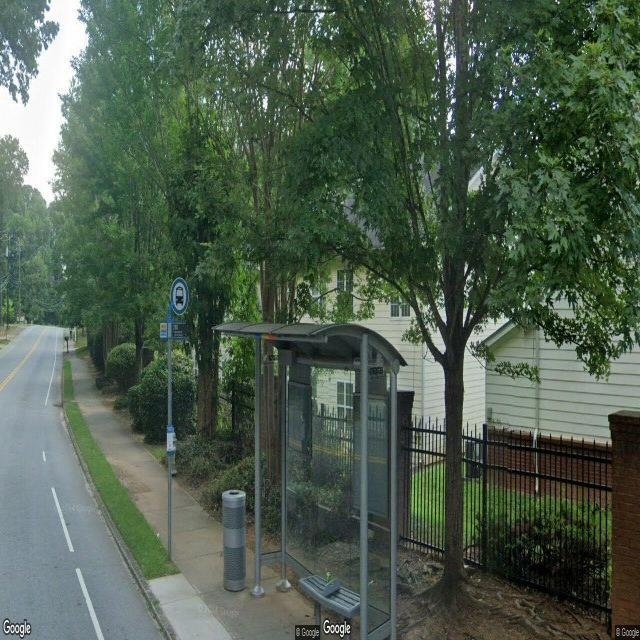seating: (298, 569, 360, 640)
shelter: (217, 320, 409, 640)
trash_can: (222, 488, 246, 594)
